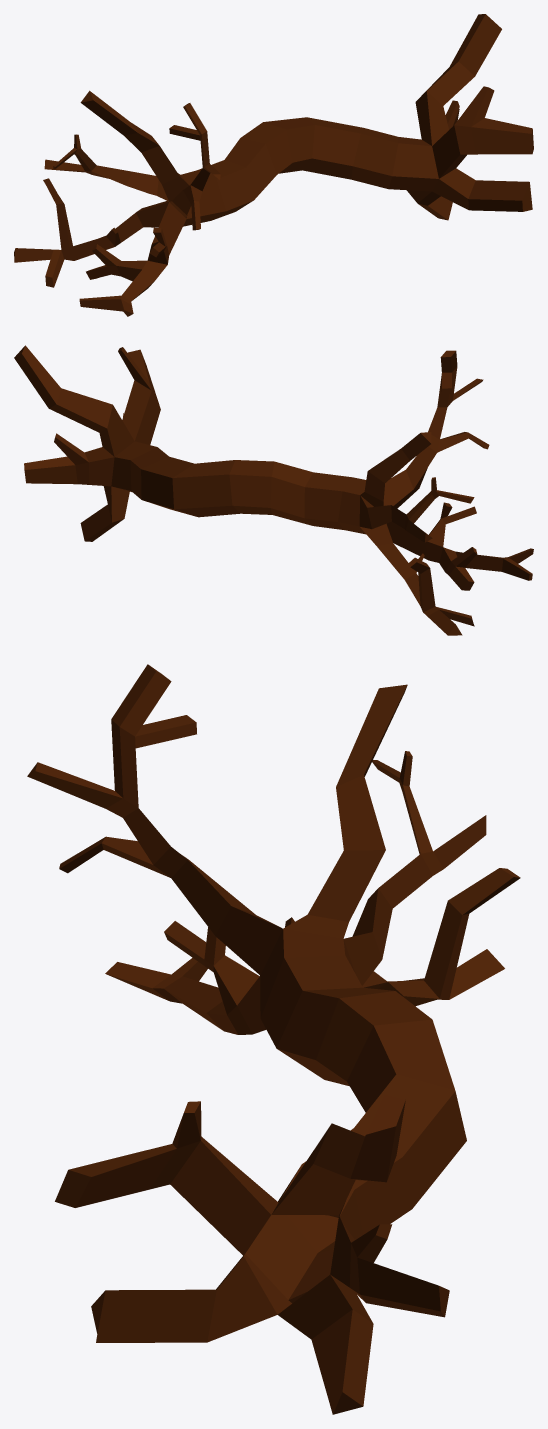
File: Arbol4.fbx
The picture shows the model from 3 angles, top to bottom: view 1: azimuth 30°, elevation 25°; view 2: azimuth 150°, elevation 25°; view 3: azimuth 270°, elevation 25°; orthographic projection. The views are drawn at different scales.
Parts seen in each view (by area): view 1: Arbol.004; view 2: Arbol.004; view 3: Arbol.004.
Part boxes in pixels (<box>): Arbol.004: <box>14,14,533,316</box>; Arbol.004: <box>14,345,533,635</box>; Arbol.004: <box>27,664,520,1414</box>.
Bounding box in the file's own units: 1173 × 544 × 543.
